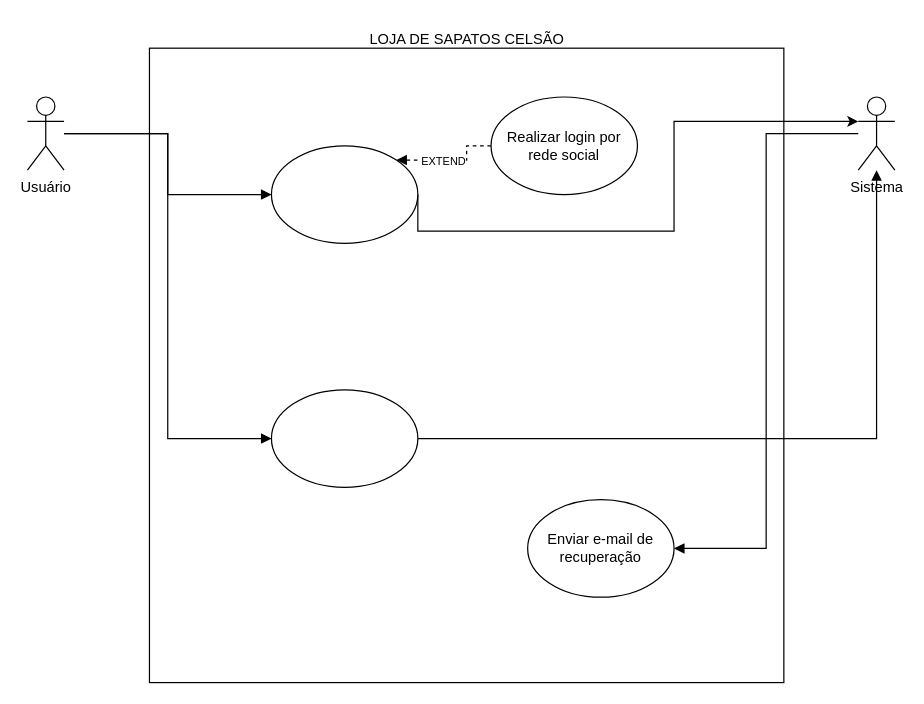
This 924x704 diagram has some shape labels left out. Each missing label, with the centre of its shape:
Realizar login: point 344,194
Recuperar senha: point 344,438
